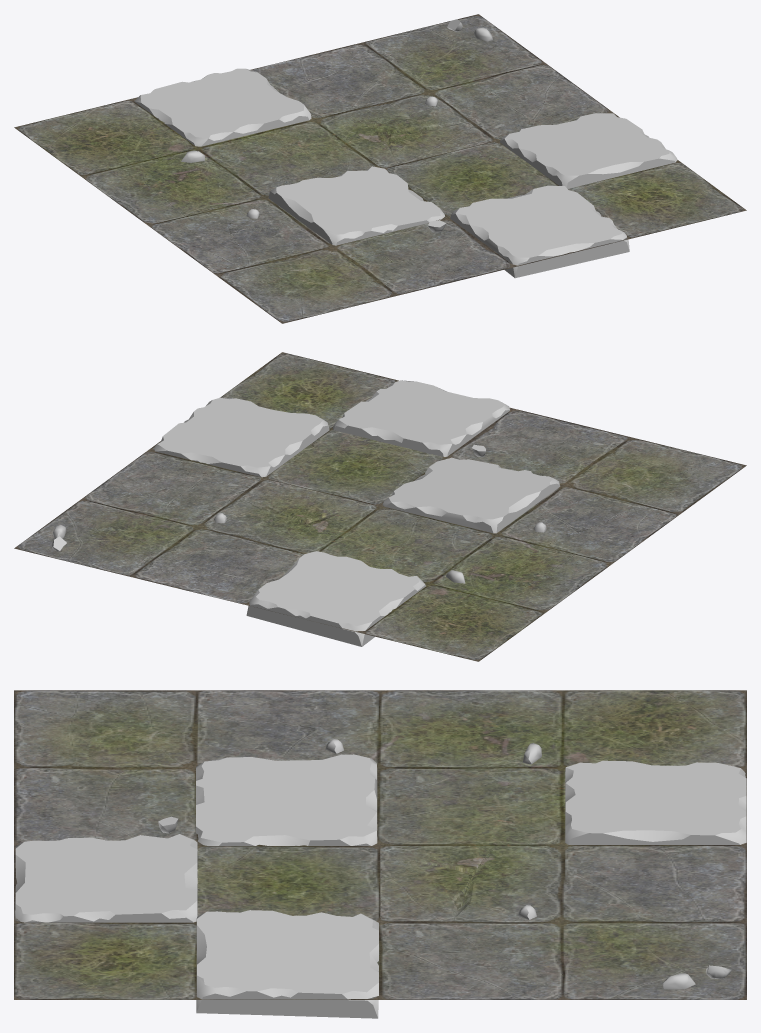
File: Floor_Lvl2_16.fbx
3 renders of one model, top to bottom at view 1: azimuth 30°, elevation 25°; view 2: azimuth 150°, elevation 25°; view 3: azimuth 270°, elevation 25°, orthographic. The views are drawn at different scales.
Parts seen in each view (by area): view 1: StoneFloor.002; view 2: StoneFloor.002; view 3: StoneFloor.002.
Part boxes in pixels (x1=…): StoneFloor.002: x1=14, y1=14, x2=746, y2=323; StoneFloor.002: x1=14, y1=352, x2=746, y2=661; StoneFloor.002: x1=14, y1=690, x2=746, y2=1018.
Size of the model in its own units: 382 by 20.6 by 382.
